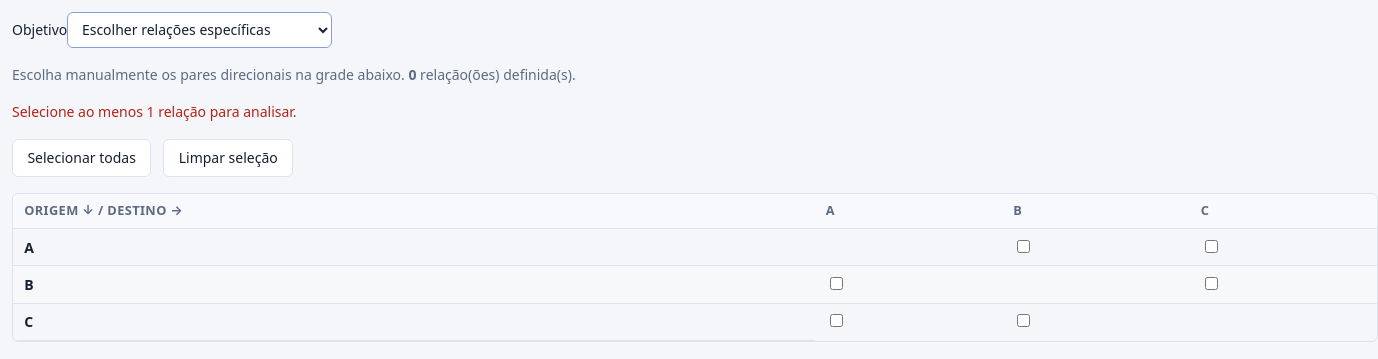
Test case: RelationSelector › relações específicas: grade começa vazia, avisa e permite marcar pares
Check: the text "Selecione ao menos 1 relação para analisar." is shown, box [12,102,297,122]
Click the checkbox named "A → B" at point(1024, 246), box [1017,240,1030,253]
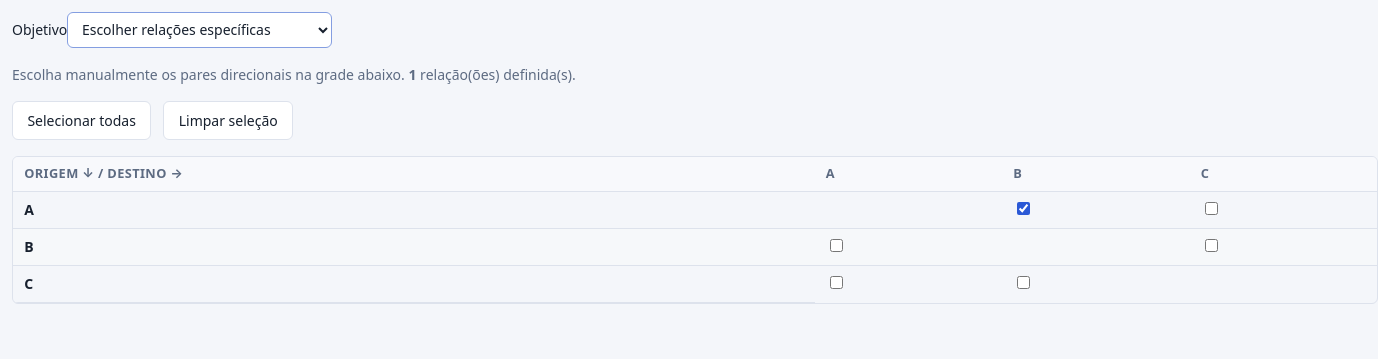
Check: the checkbox named "A → B" is checked, box [1017,202,1030,215]
Check: the text "Selecione ao menos 1 relação para analisar." is gone
Click the button "Selecionar todas" at point(82, 121), box [12,102,151,140]
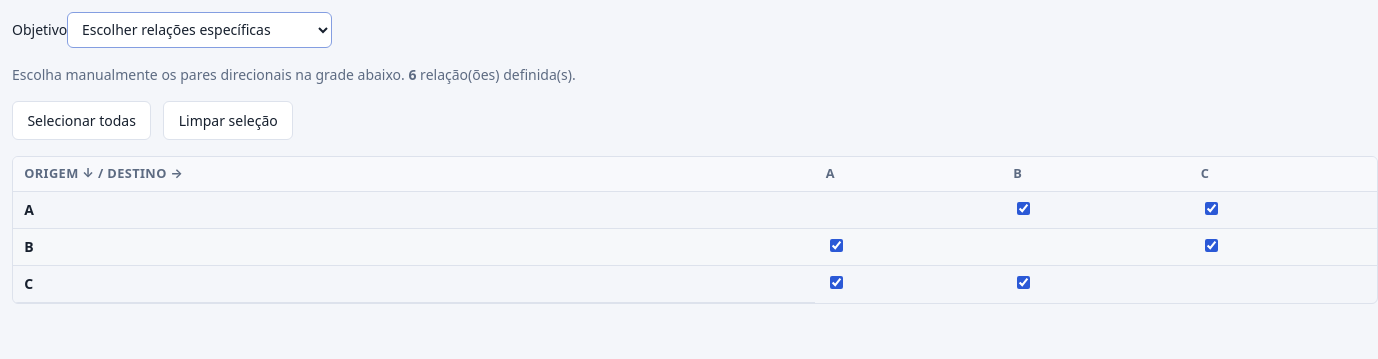
Check: the checkbox named "C → A" is checked, box [830,276,843,289]
Click the button "Limpar seleção" at point(228, 121), box [163,102,293,140]
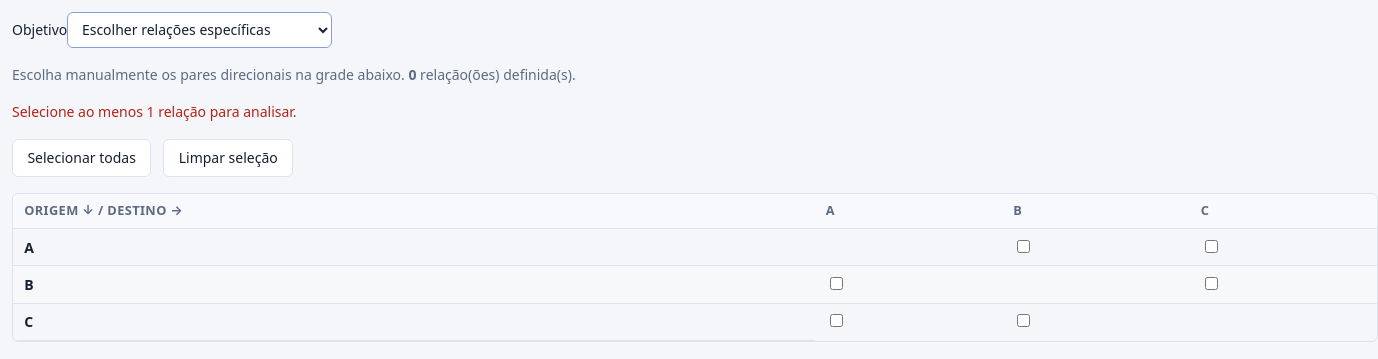
Check: the checkbox named "C → A" is not checked, box [830,314,843,327]
